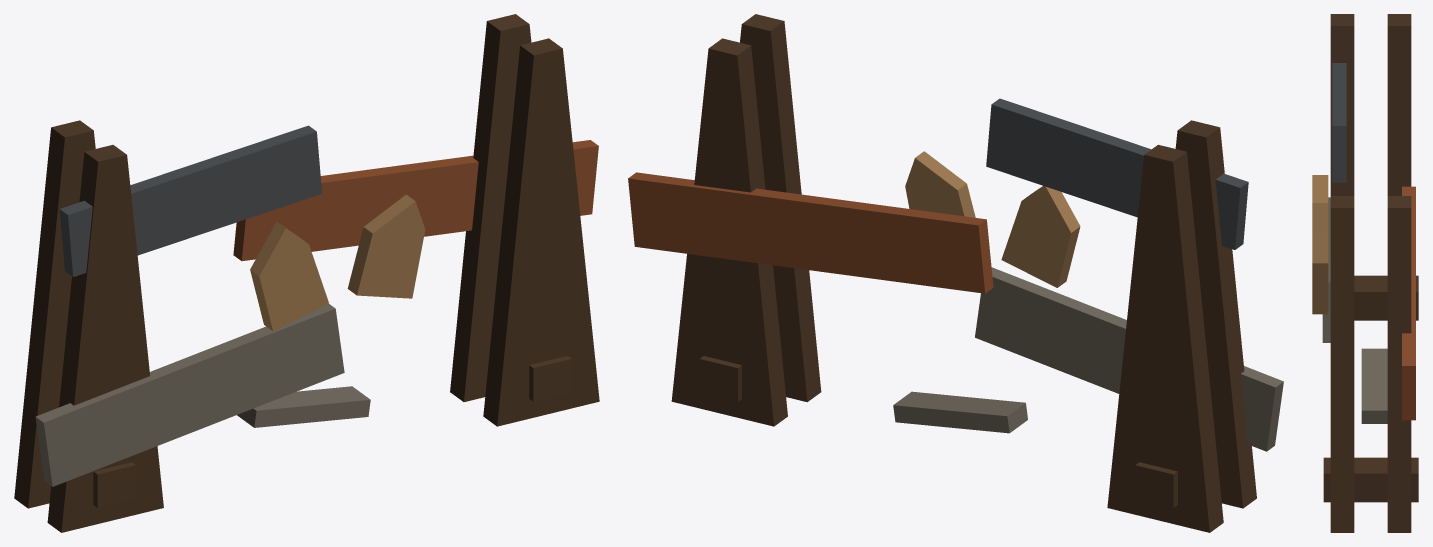
The model's file is piece_barricade_critical.fbx.
3 renders of one model, left to right at view 1: azimuth 30°, elevation 25°; view 2: azimuth 150°, elevation 25°; view 3: azimuth 270°, elevation 25°, orthographic. The views are drawn at different scales.
Parts seen in each view (by area): view 1: piece_barricade_critical; view 2: piece_barricade_critical; view 3: piece_barricade_critical.
Part boxes in pixels (x1=…): piece_barricade_critical: x1=14, y1=14, x2=599, y2=532; piece_barricade_critical: x1=628, y1=14, x2=1283, y2=532; piece_barricade_critical: x1=1312, y1=14, x2=1418, y2=532.
Bounding box in the file's own units: 1.88 × 1.08 × 0.335.
